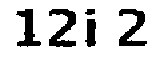1: (12, 4, 43, 51)
2: (46, 5, 78, 53), (116, 6, 149, 52)
i: (80, 5, 104, 51)
